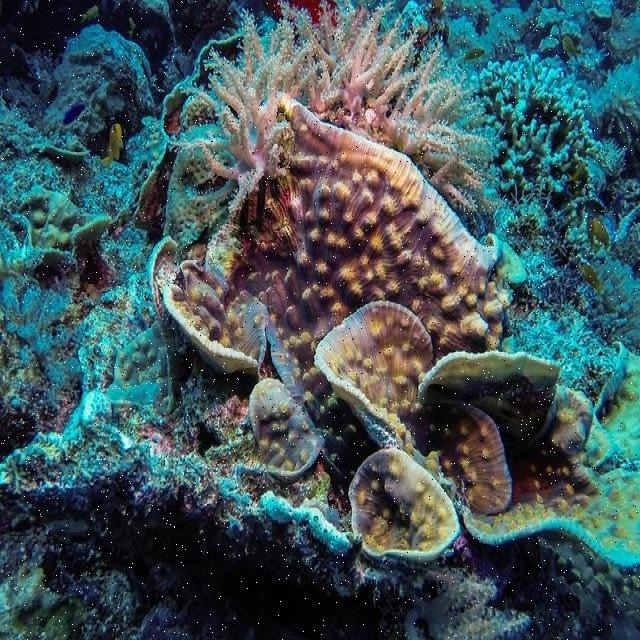fish: (100, 122, 123, 168), (581, 262, 606, 298), (593, 216, 614, 254), (562, 35, 583, 62), (62, 104, 87, 124), (586, 217, 599, 255), (463, 48, 486, 63)
reefs: (206, 102, 527, 493), (168, 0, 508, 218), (417, 351, 639, 570), (315, 299, 512, 515), (474, 53, 608, 267), (107, 235, 181, 416), (348, 449, 462, 565), (161, 260, 267, 374), (11, 185, 111, 272), (249, 378, 326, 482), (586, 340, 639, 469), (163, 149, 230, 249)
